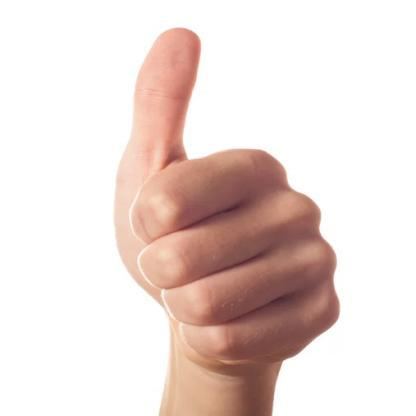thumb_up: (94, 24, 351, 373)
